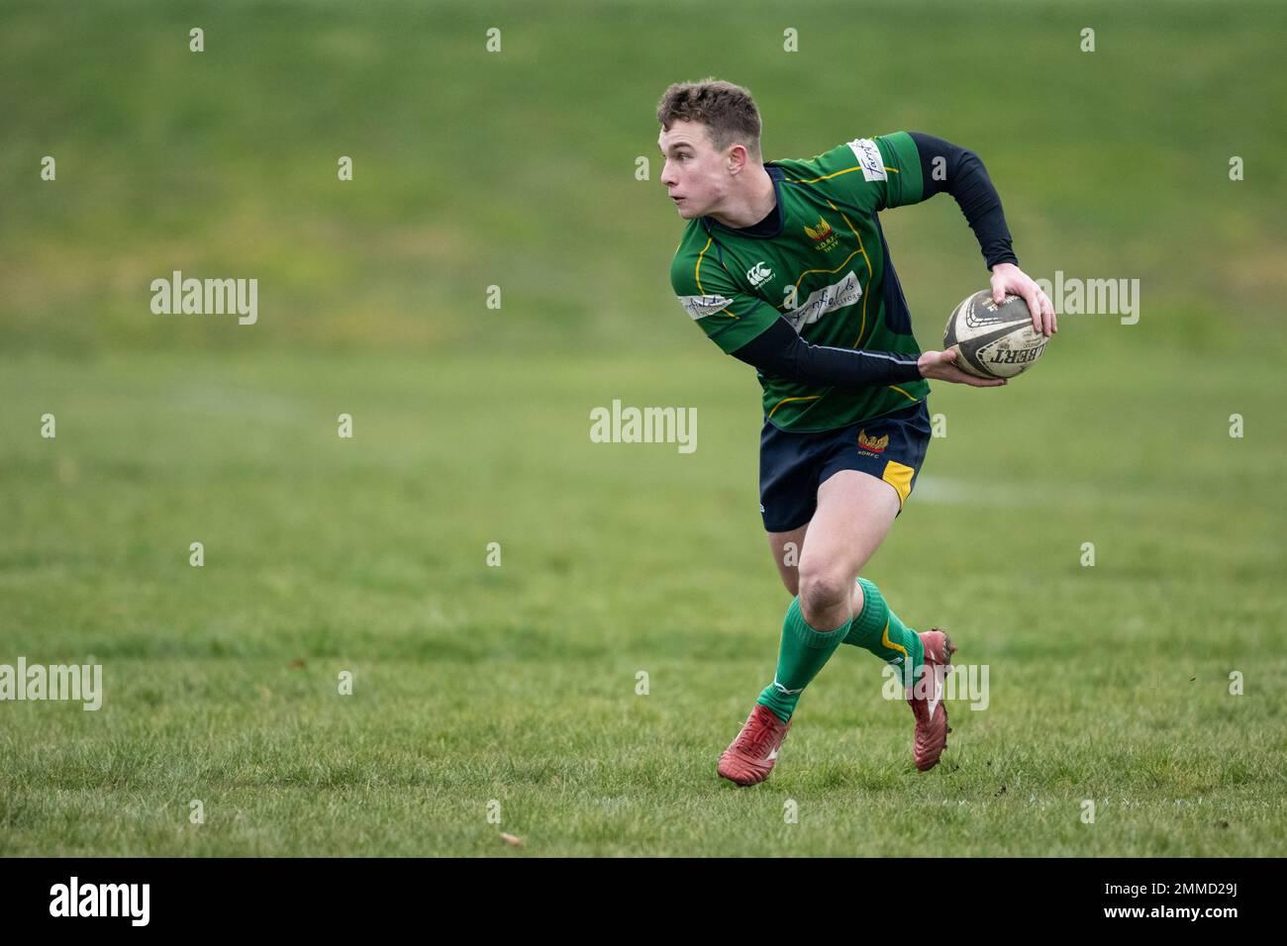ballon_rugby: (942, 286, 1051, 387)
